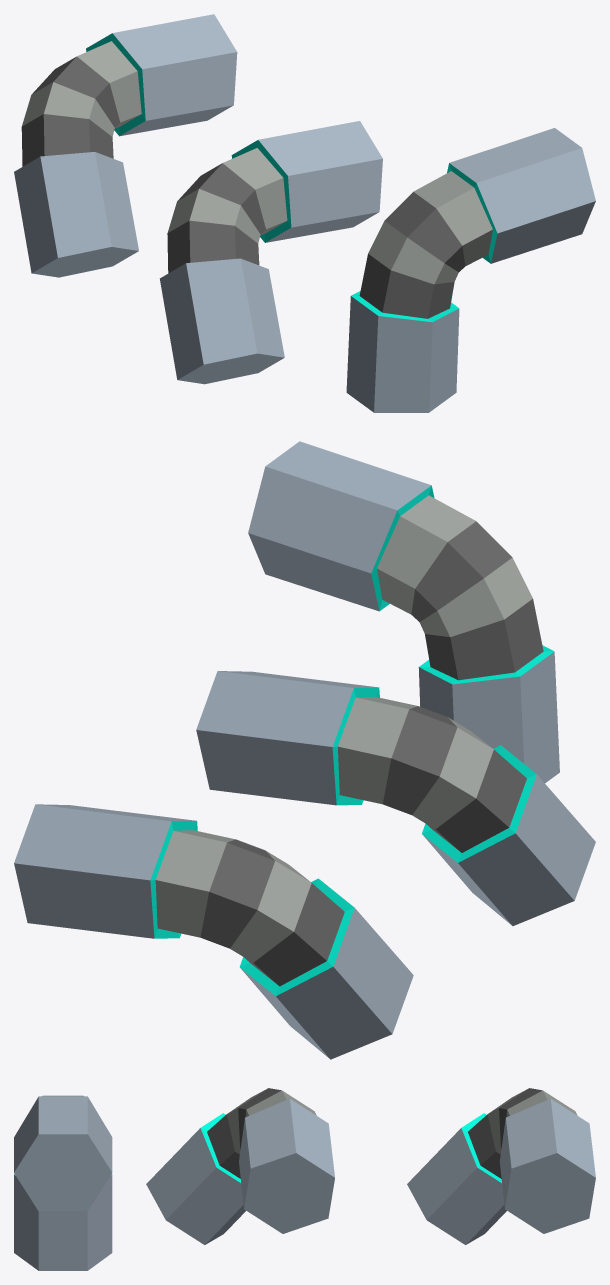
File: Freighter_Pipes.04.fbx
3 renders of one model, top to bottom at view 1: azimuth 30°, elevation 25°; view 2: azimuth 150°, elevation 25°; view 3: azimuth 270°, elevation 25°, orthographic. The views are drawn at different scales.
Visible parts, largest first — view 1: Pipes_04_LOD0; view 2: Pipes_04_LOD0; view 3: Pipes_04_LOD0.
Part boxes in pixels (box(x1,y1,x2,y2)): Pipes_04_LOD0: box(14, 14, 595, 412); Pipes_04_LOD0: box(14, 441, 595, 1059); Pipes_04_LOD0: box(14, 1088, 595, 1270).
Size of what is drawn, in the model's own units: 3650 by 2738 by 6578.
Materials: 1 (1 with a texture image).
